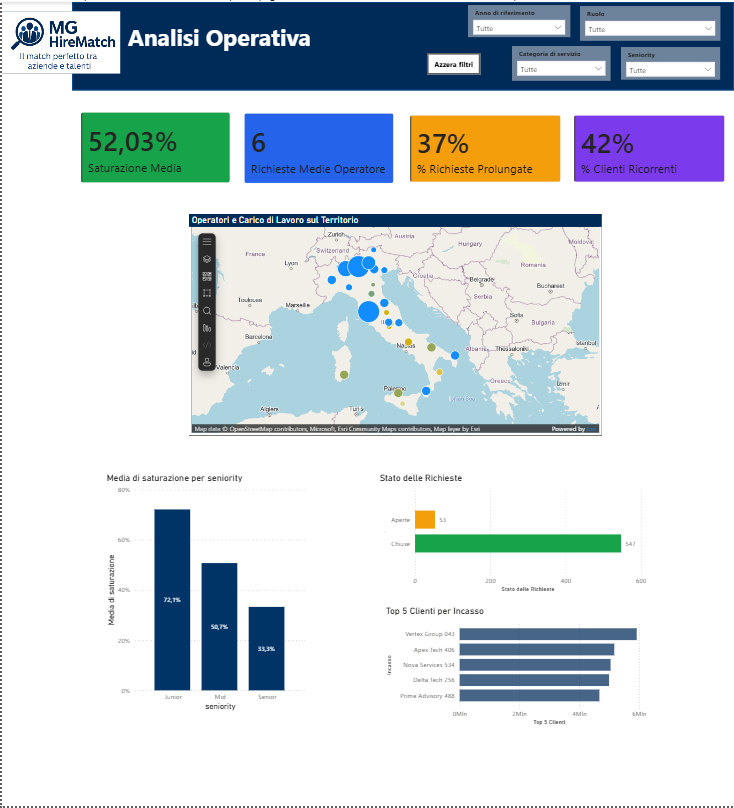

The page's visual inventory and layout, read from the dashboard file:
{"tool":"powerbi","page":{"name":"Analisi Operativa","canvas":[1366,1500],"ordinal":1},"visuals":[{"type":"image","box":[528.5,0,279.3,106.7],"z":0},{"type":"shape","box":[131.3,0,1234.7,164.7],"z":1000},{"type":"image","box":[0,0,221.1,150.3],"z":2000,"group":"g2"},{"type":"cardVisual","fields":{"Data":["Fact_Richieste.% Richieste Prolungate"]},"box":[744.1,193.3,315.5,159.6],"z":2000},{"type":"textbox","box":[229,32.3,549,87],"z":3000,"group":"g2"},{"type":"cardVisual","fields":{"Data":["Avg(Dim_Operatori.saturazione)"]},"box":[131.3,188.8,312.8,166.9],"z":3000},{"type":"slicer","fields":{"Values":["Fact_Richieste.data_apertura.Variazione.Gerarchia data.Anno"]},"box":[869,6.4,190.8,60.4],"z":4000,"group":"g2"},{"type":"cardVisual","fields":{"Data":["Dim_Clienti.Clienti Ricorrenti %"]},"box":[1050.5,193.3,315.5,159.6],"z":4000},{"type":"slicer","fields":{"Values":["Dim_Operatori.seniority"]},"box":[1154.7,84.8,184.9,60.5],"z":5000},{"type":"slicer","fields":{"Values":["Dim_Operatori.categoria_servizio"]},"box":[951.6,82.7,184.4,64.6],"z":6000,"group":"g2"},{"type":"cardVisual","fields":{"Data":["Dim_Clienti.Richieste Medie per Operatore"]},"box":[435,190.6,313.7,165.1],"z":6000},{"type":"slicer","fields":{"Values":["Dim_Operatori.ruolo"]},"box":[1077.6,6.6,262,64.9],"z":7000,"group":"g2"},{"type":"group","id":"g1","title":"Gruppo 2","box":[0,0,1339.6,150.3],"z":10000},{"type":"actionButton","box":[792.7,95.4,99.6,40.3],"z":11000},{"type":"group","id":"g2","title":"Gruppo 1","box":[0,0,1339.6,150.3],"z":12000,"group":"g1"},{"type":"esriVisual","title":"Operatori e Carico di Lavoro sul Territorio","fields":{"Color":["Dim_Operatori.saturazione"],"Latitude":["Dim_Operatori.latitudine"],"Longitude":["Dim_Operatori.longitudine"],"Size":["Sum(Dim_Operatori.richieste_attive)"]},"box":[348.7,396.3,770.4,413.3],"z":12000},{"type":"columnChart","fields":{"Category":["Dim_Operatori.seniority"],"Y":["Avg(Dim_Operatori.saturazione)"]},"box":[189.7,876.4,380.4,450.4],"z":12001},{"type":"barChart","title":"Stato delle Richieste","fields":{"Category":["Fact_Richieste.MacroStato"],"Y":["CountNonNull(Fact_Richieste.richiesta_id)"]},"box":[700.5,876.4,507.6,230],"z":12002},{"type":"barChart","fields":{"Category":["Anagrafica_Clienti.nome_cliente"],"Y":["Sum(Fact_Richieste.importo_totale)"]},"box":[711.1,1125.4,497,230],"z":12003}]}

Visuals, with their boxes in screenshot pixels (x1, y1, x2, y2), scaled from the page's 1366x1500 canvas onto the 734x808 screenshot:
image: bbox(284, 0, 434, 57)
shape: bbox(71, 0, 733, 89)
image: bbox(0, 0, 119, 81)
cardVisual - Fact_Richieste.% Richieste Prolungate: bbox(400, 104, 569, 190)
textbox: bbox(123, 17, 418, 64)
cardVisual - Avg(Dim_Operatori.saturazione): bbox(71, 102, 239, 192)
slicer - Fact_Richieste.data_apertura.Variazione.Gerarchia data.Anno: bbox(467, 3, 569, 36)
cardVisual - Dim_Clienti.Clienti Ricorrenti %: bbox(564, 104, 733, 190)
slicer - Dim_Operatori.seniority: bbox(620, 46, 720, 78)
slicer - Dim_Operatori.categoria_servizio: bbox(511, 45, 610, 79)
cardVisual - Dim_Clienti.Richieste Medie per Operatore: bbox(234, 103, 402, 192)
slicer - Dim_Operatori.ruolo: bbox(579, 4, 720, 39)
"Gruppo 2" group: bbox(0, 0, 720, 81)
actionButton: bbox(426, 51, 479, 73)
"Gruppo 1" group: bbox(0, 0, 720, 81)
"Operatori e Carico di Lavoro sul Territorio" esriVisual: bbox(187, 213, 601, 436)
columnChart - Dim_Operatori.seniority x Avg(Dim_Operatori.saturazione): bbox(102, 472, 306, 715)
"Stato delle Richieste" barChart: bbox(376, 472, 649, 596)
barChart - Anagrafica_Clienti.nome_cliente x Sum(Fact_Richieste.importo_totale): bbox(382, 606, 649, 730)
